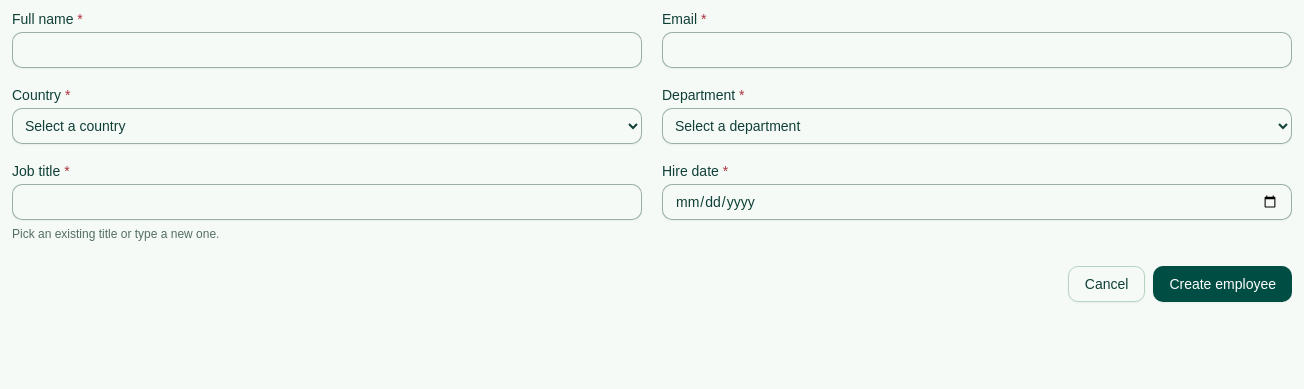
Scenario: EmployeeForm › shows other failures (e.g. the API being down) in an alert and keeps the input
Type "Ada Lovelace" into the field labelled "Full name *".
click(327, 50); type("Ada Lovelace")  # box [12,32,642,68]
Type "ada@acme.com" into the field labelled "Email *".
click(977, 50); type("ada@acme.com")  # box [662,32,1292,68]
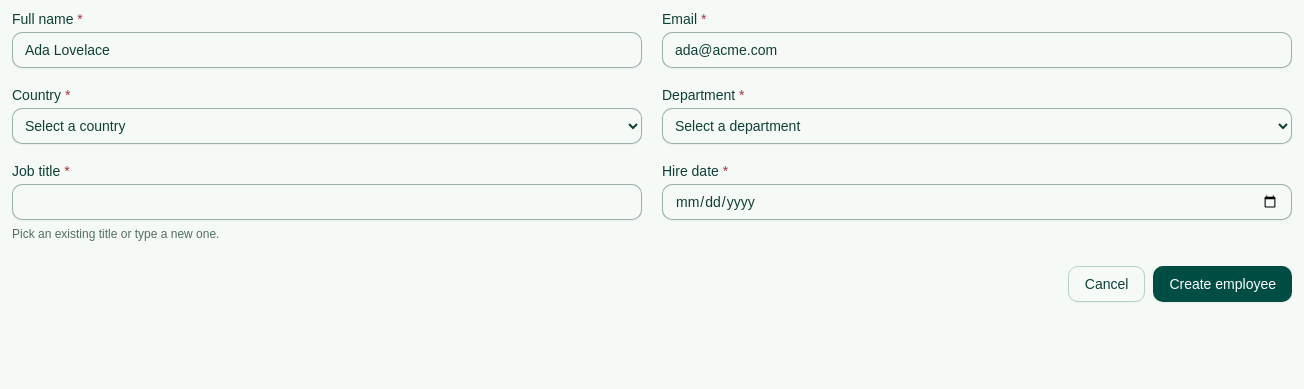
Select "Germany" in the dropdown labelled "Country *" at x=327, y=126, box [12,108,642,144]
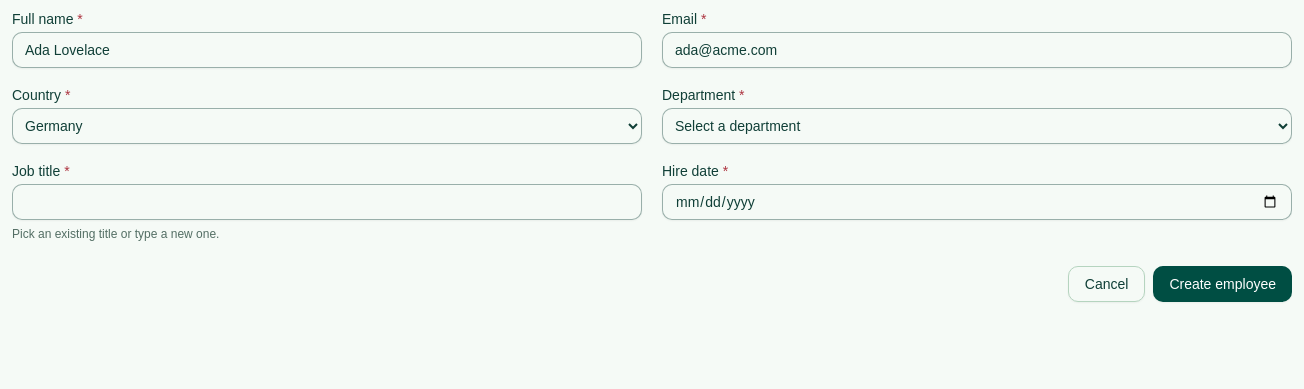
Select "Engineering" in the dropdown labelled "Department *" at x=977, y=126, box [662,108,1292,144]
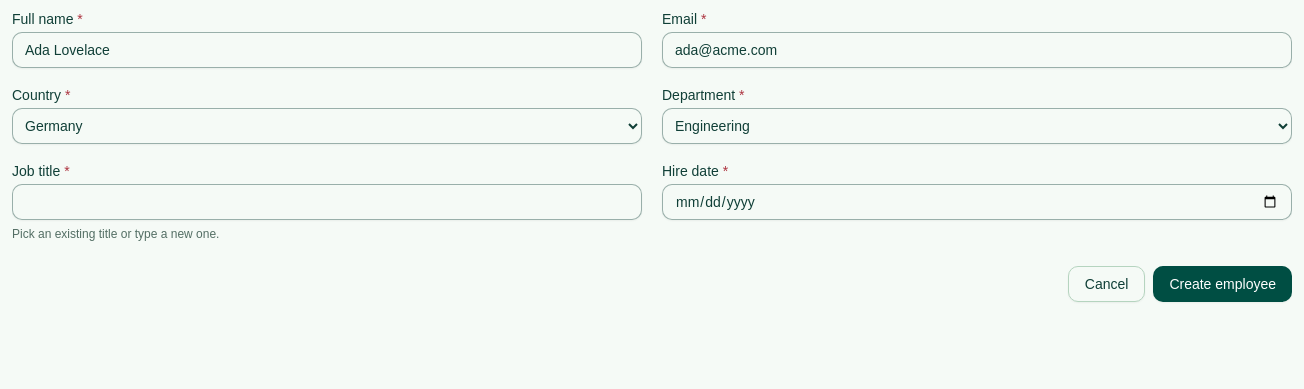
Type "Software Engineer I" into the field labelled "Job title *".
click(327, 202); type("Software Engineer I")  # box [12,184,642,220]
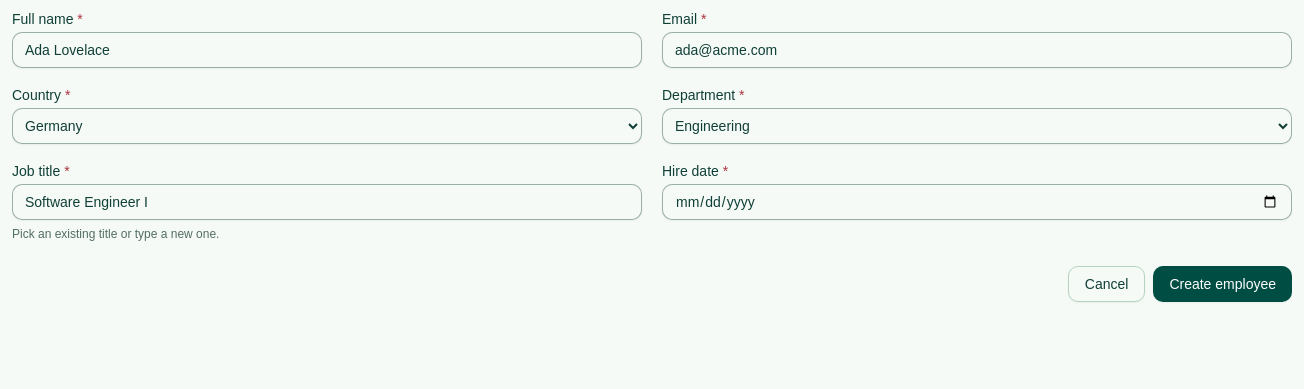
Type "2021-03-05" into the date field labelled "Hire date *".
click(977, 202); type("2021-03-05")  # box [662,184,1292,220]
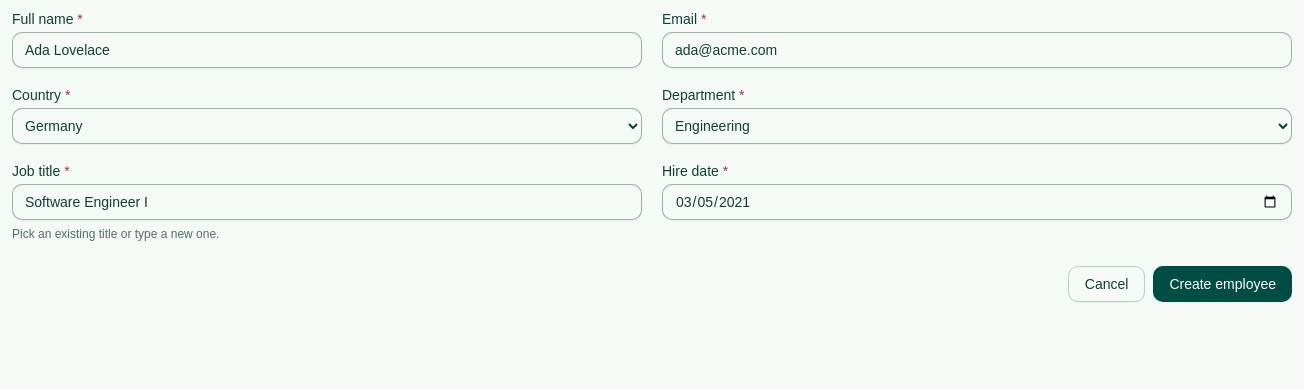
Click the button "Create employee".
click(1223, 284)  # box [1153,266,1292,302]
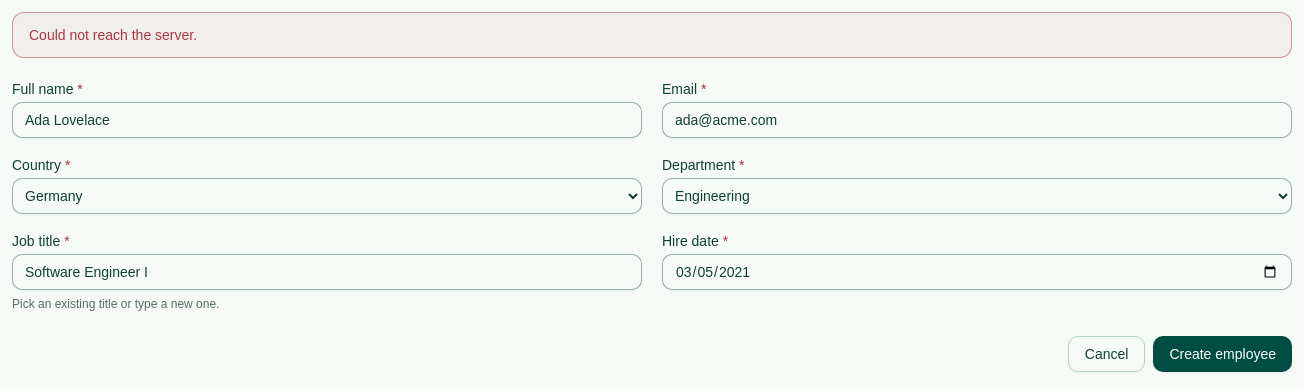
expect the message reads "Could not reach the server.": met, box [29,27,197,43]
